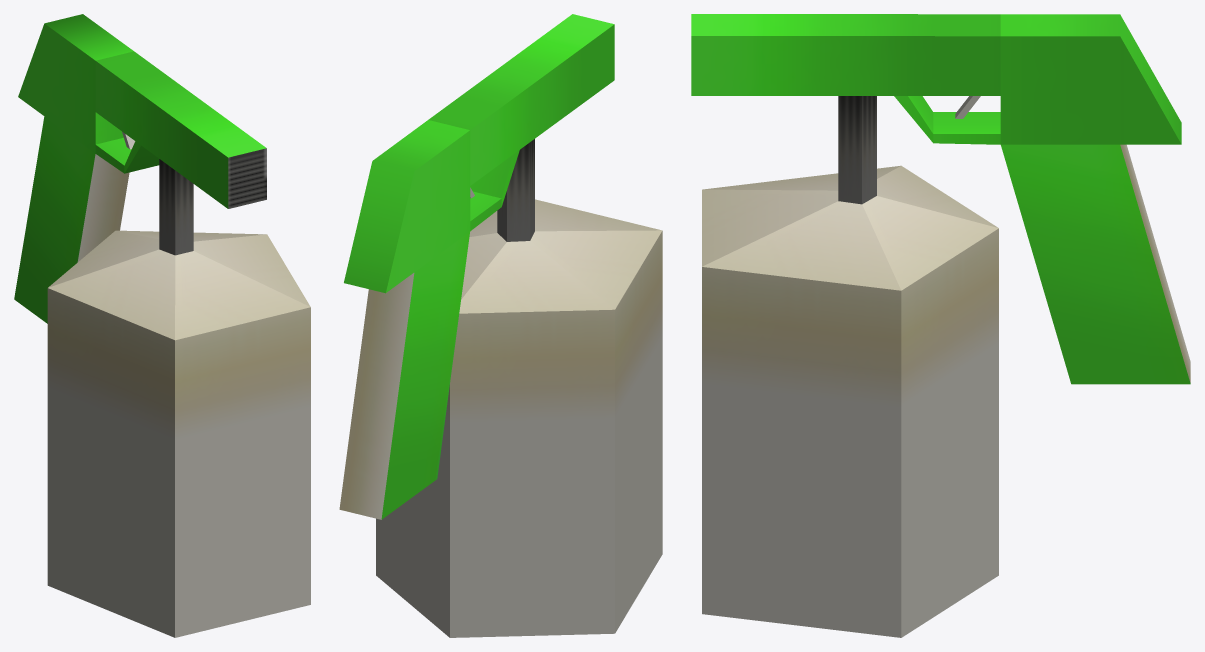
File: PaintGun.fbx
The picture shows the model from 3 angles, left to right: view 1: azimuth 30°, elevation 25°; view 2: azimuth 150°, elevation 25°; view 3: azimuth 270°, elevation 25°; orthographic projection. The views are drawn at different scales.
Parts seen in each view (by area): view 1: Maya_File_Assets:TexturedAssetsCurrent:JohnPepper02Assets:Pa; view 2: Maya_File_Assets:TexturedAssetsCurrent:JohnPepper02Assets:Pa; view 3: Maya_File_Assets:TexturedAssetsCurrent:JohnPepper02Assets:Pa.
Boxes of the visible parts, bbox=[...] form: Maya_File_Assets:TexturedAssetsCurrent:JohnPepper02Assets:Pa: bbox=[14, 14, 310, 637]; Maya_File_Assets:TexturedAssetsCurrent:JohnPepper02Assets:Pa: bbox=[339, 14, 662, 637]; Maya_File_Assets:TexturedAssetsCurrent:JohnPepper02Assets:Pa: bbox=[691, 14, 1190, 637].
Size of the model in its own units: 0.214 by 0.4394 by 0.3614.
